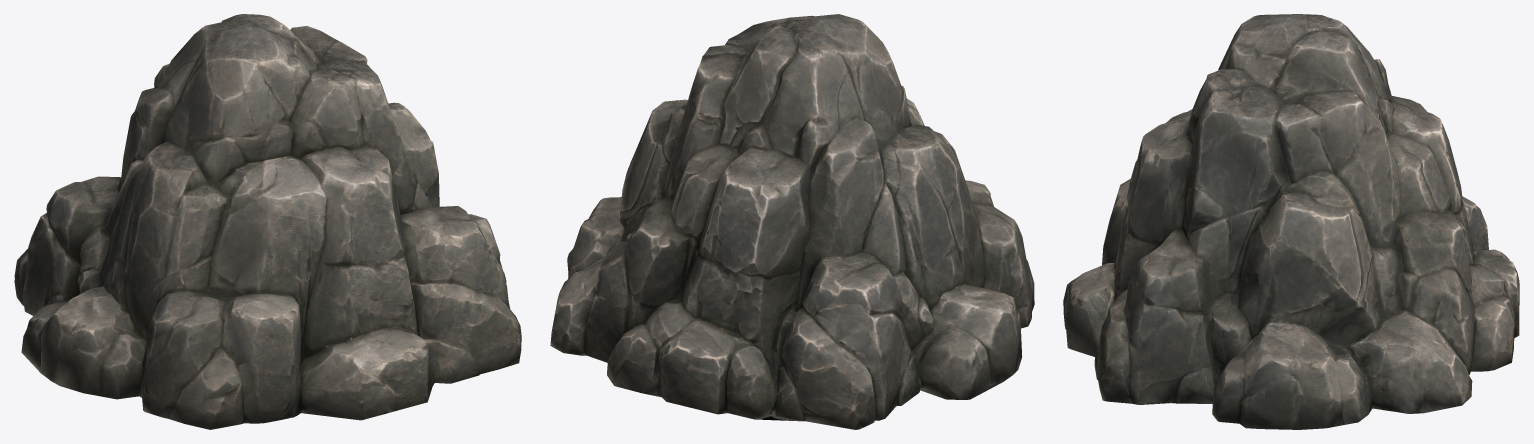
The model's file is o18_tas_yigini.glb.
3 renders of one model, left to right at view 1: azimuth 30°, elevation 25°; view 2: azimuth 150°, elevation 25°; view 3: azimuth 270°, elevation 25°, orthographic. The views are drawn at different scales.
Parts seen in each view (by area): view 1: Mesh1.0; view 2: Mesh1.0; view 3: Mesh1.0.
Part boxes in pixels (x1,y1,x2,y2): Mesh1.0: [14, 14, 521, 429]; Mesh1.0: [550, 14, 1034, 429]; Mesh1.0: [1063, 14, 1519, 429].
Size of the model in its own units: 1.91 by 1.3 by 1.79.
1 material, 1 textured.
